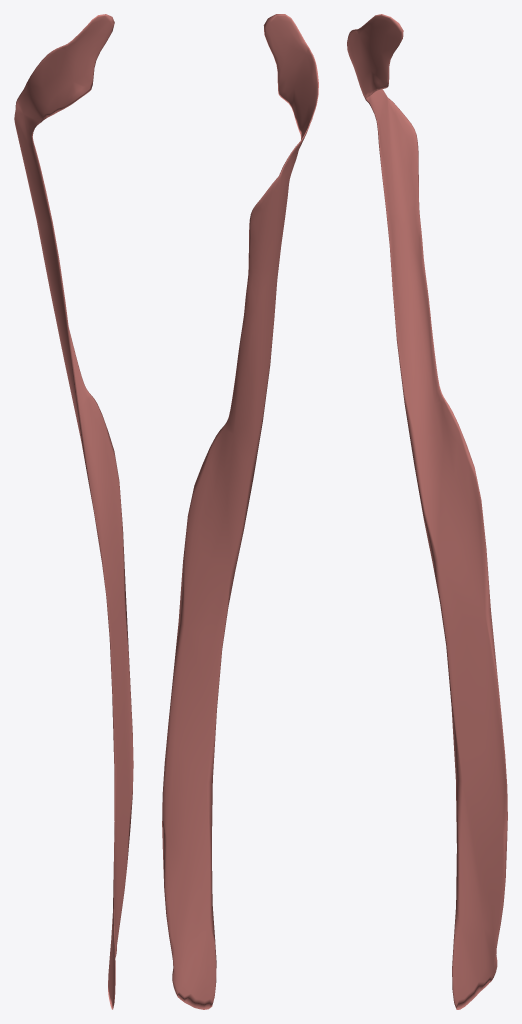
3 views of the same model, side by side, from view 1: azimuth 30°, elevation 25°; view 2: azimuth 150°, elevation 25°; view 3: azimuth 330°, elevation 25° (orthographic). The views are drawn at different scales.
Parts seen in each view (by area): view 1: ZA_6f4756f3af02a0a0; view 2: ZA_6f4756f3af02a0a0; view 3: ZA_6f4756f3af02a0a0.
Boxes of the visible parts, bbox=[...] form: ZA_6f4756f3af02a0a0: bbox=[14, 14, 133, 1009]; ZA_6f4756f3af02a0a0: bbox=[162, 14, 318, 1009]; ZA_6f4756f3af02a0a0: bbox=[347, 14, 507, 1009].
Size of the model in its own units: 0.0425 by 0.3118 by 0.0291.
